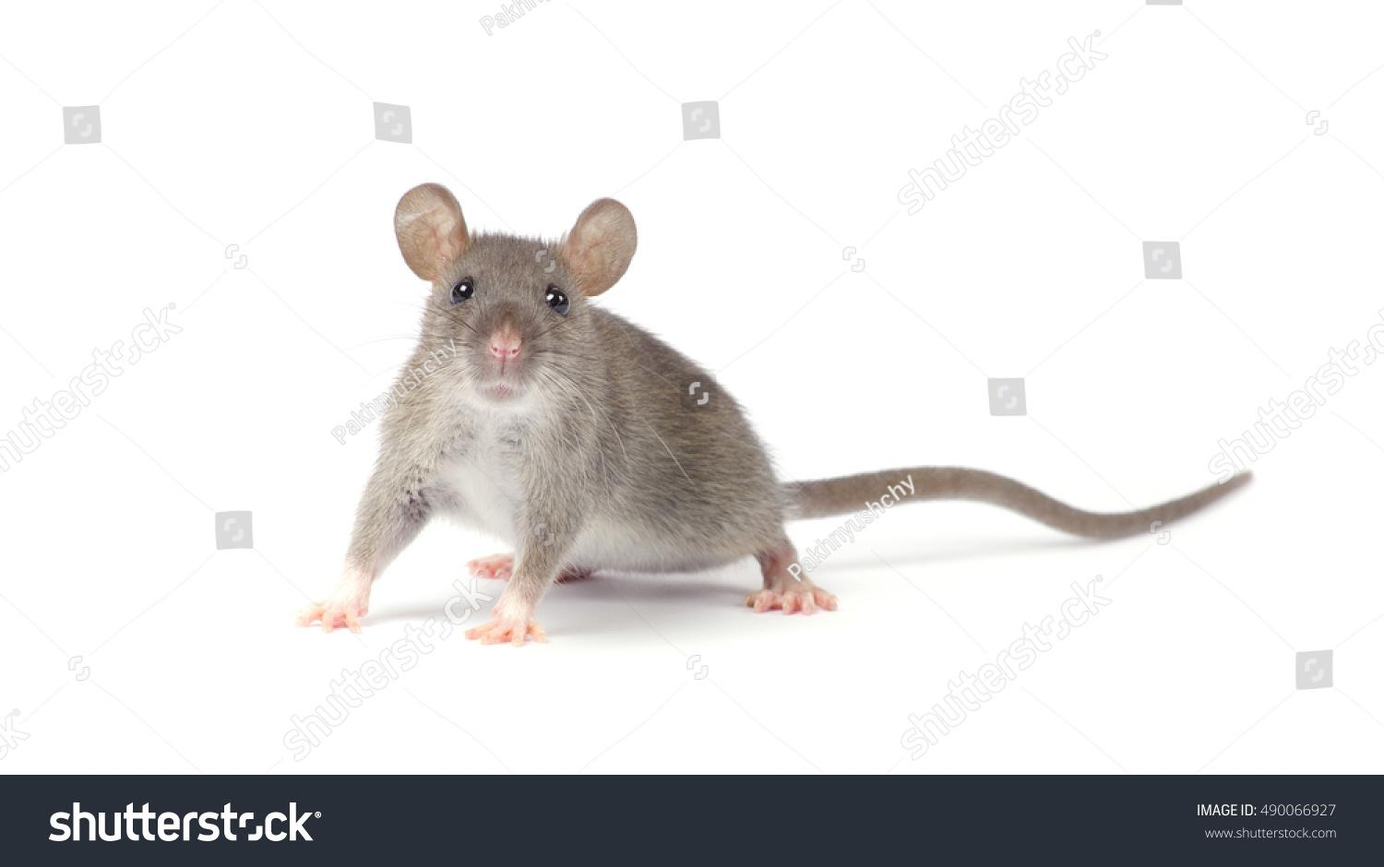rat: (337, 180, 1256, 638)
